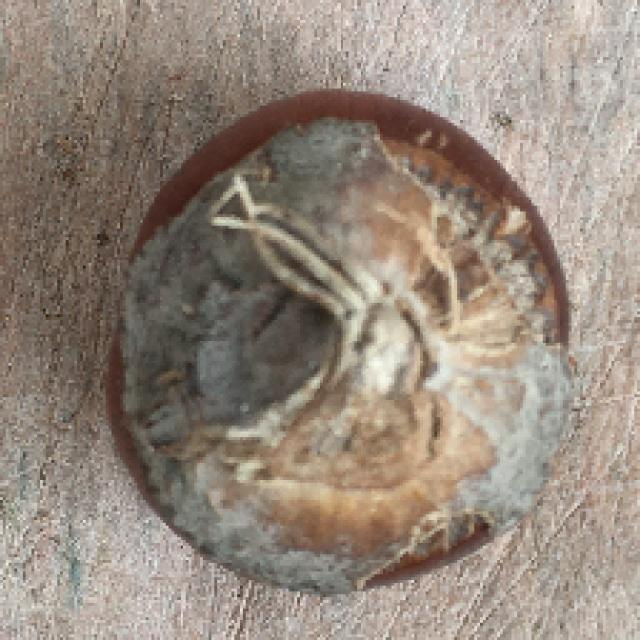damagedHazelnut: (99, 82, 577, 601)
